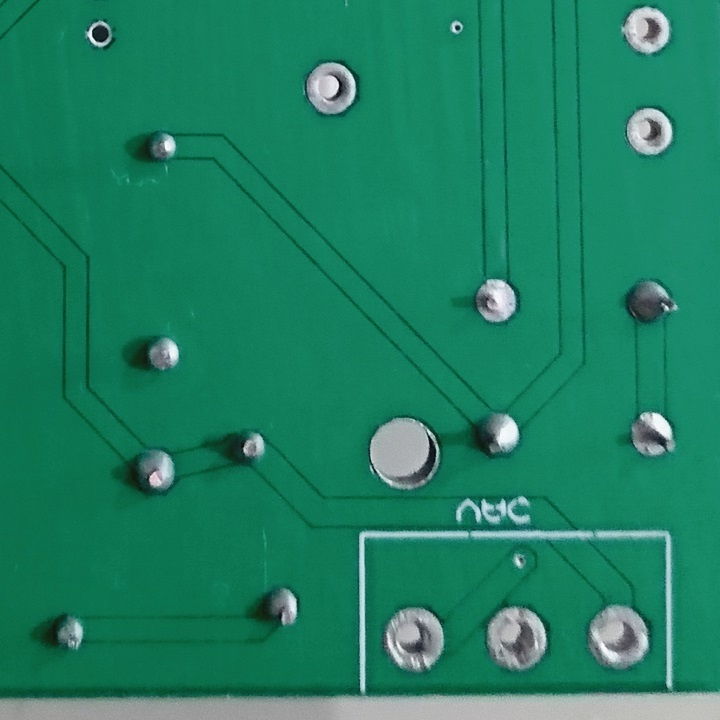F: (584, 601, 655, 678), (482, 600, 553, 673), (379, 604, 448, 673), (625, 406, 682, 464), (303, 59, 358, 119), (470, 274, 525, 328), (621, 106, 679, 157), (621, 6, 674, 57)
